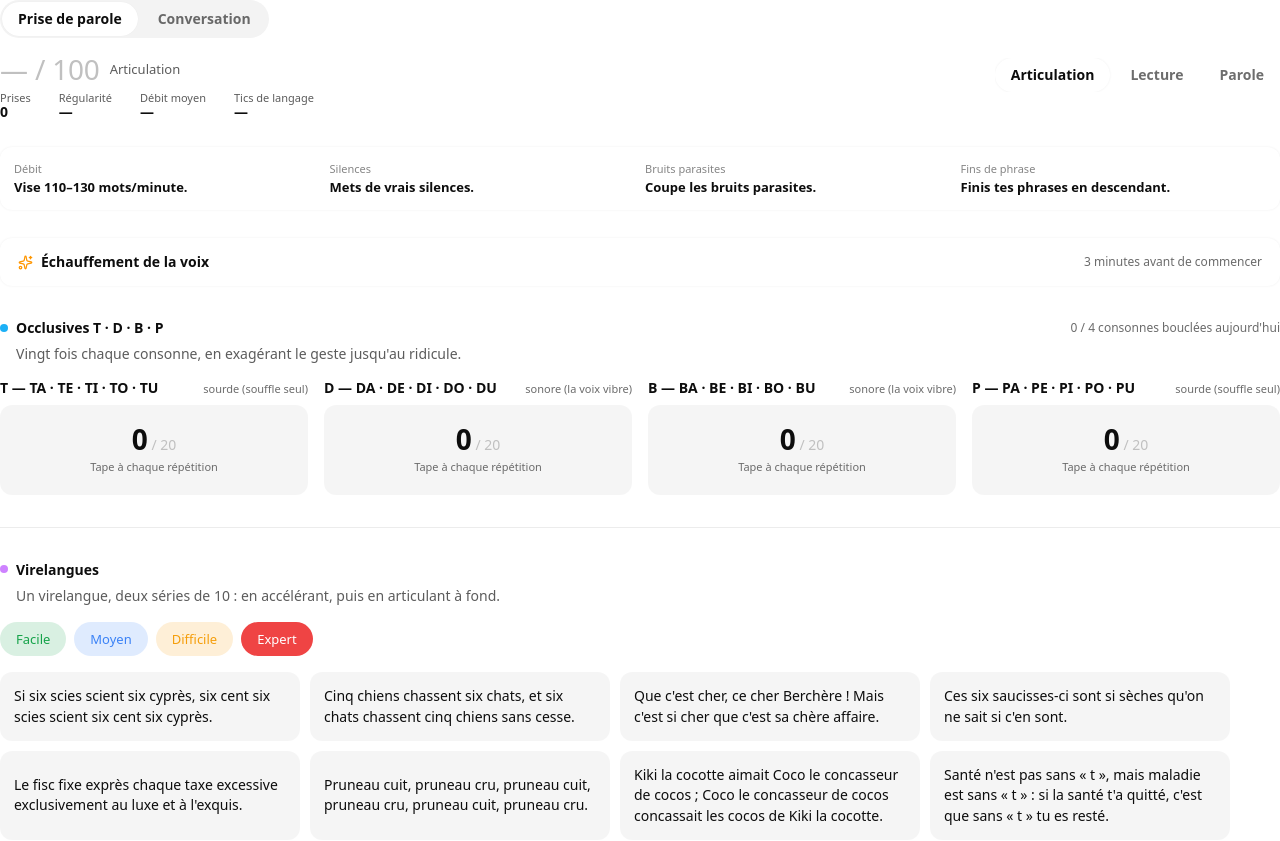
Page Éloquence › ouvre la lecture sur la lente et exagérée, avec sa cible de débit propre
This screenshot has width=1280, height=841.
Click the button "Lecture".
click(1157, 75)  # box top-left (1114, 58), bottom-right (1199, 92)
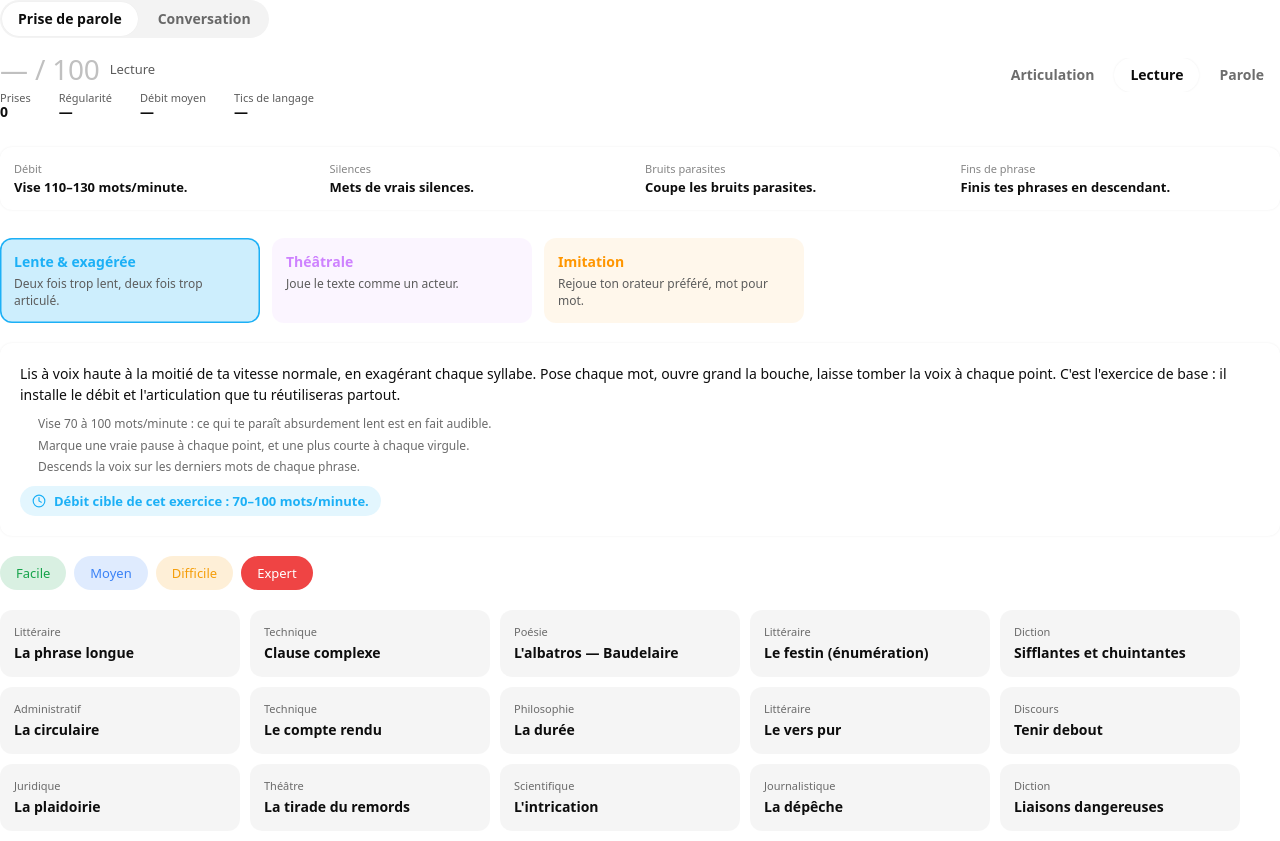
Expected: the text "Deux fois trop lent, deux fois trop articulé." is shown, top-left (14, 275), bottom-right (203, 309)
Expected: the text "Débit cible de cet exercice : 70–100 mots/minute." is shown, top-left (20, 486), bottom-right (381, 516)
# L'imitation, elle, réclame le texte du modèle plutôt qu'un texte maison.
Click the text "Rejoue ton orateur préféré, mot pour mot.".
click(674, 293)  # box top-left (558, 276), bottom-right (790, 310)
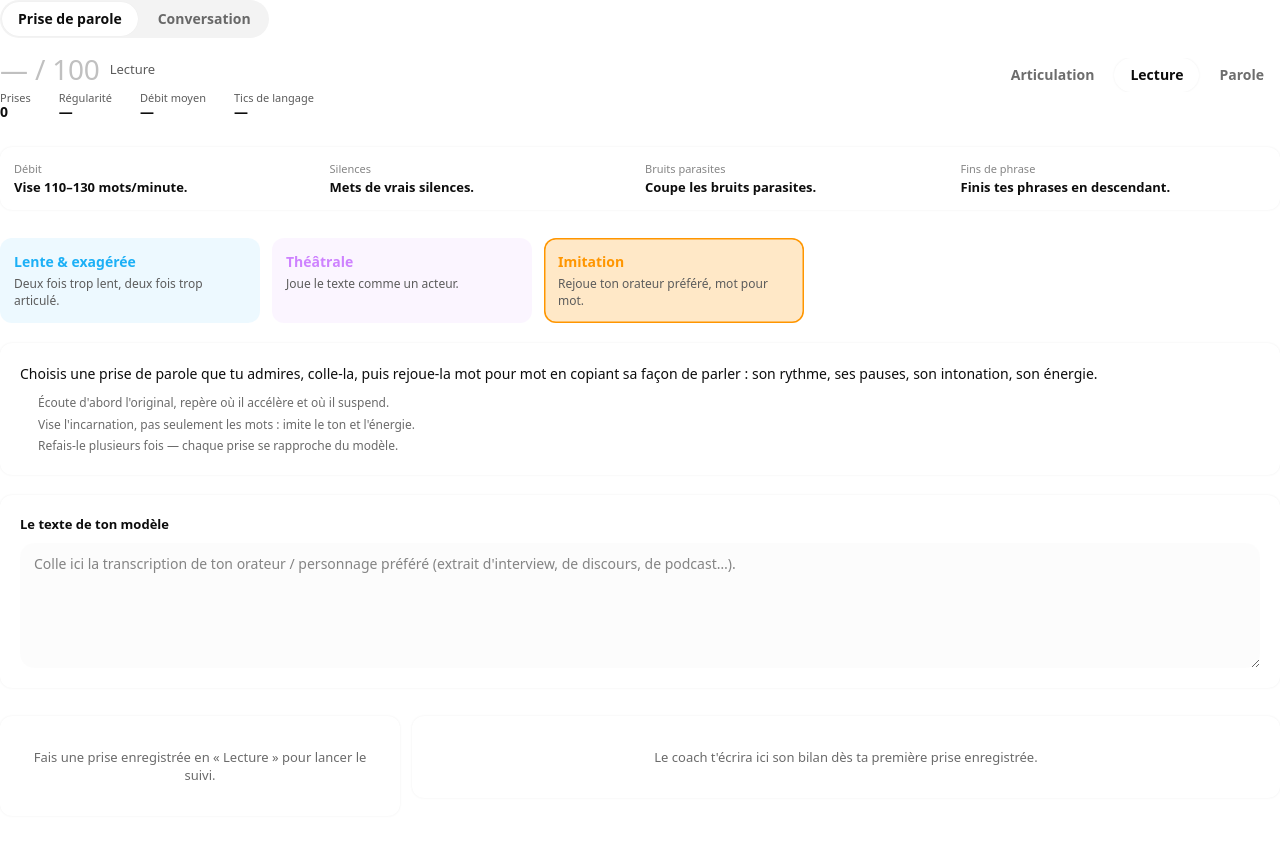
Expected: the text "Le texte de ton modèle" is shown, top-left (20, 515), bottom-right (169, 533)
